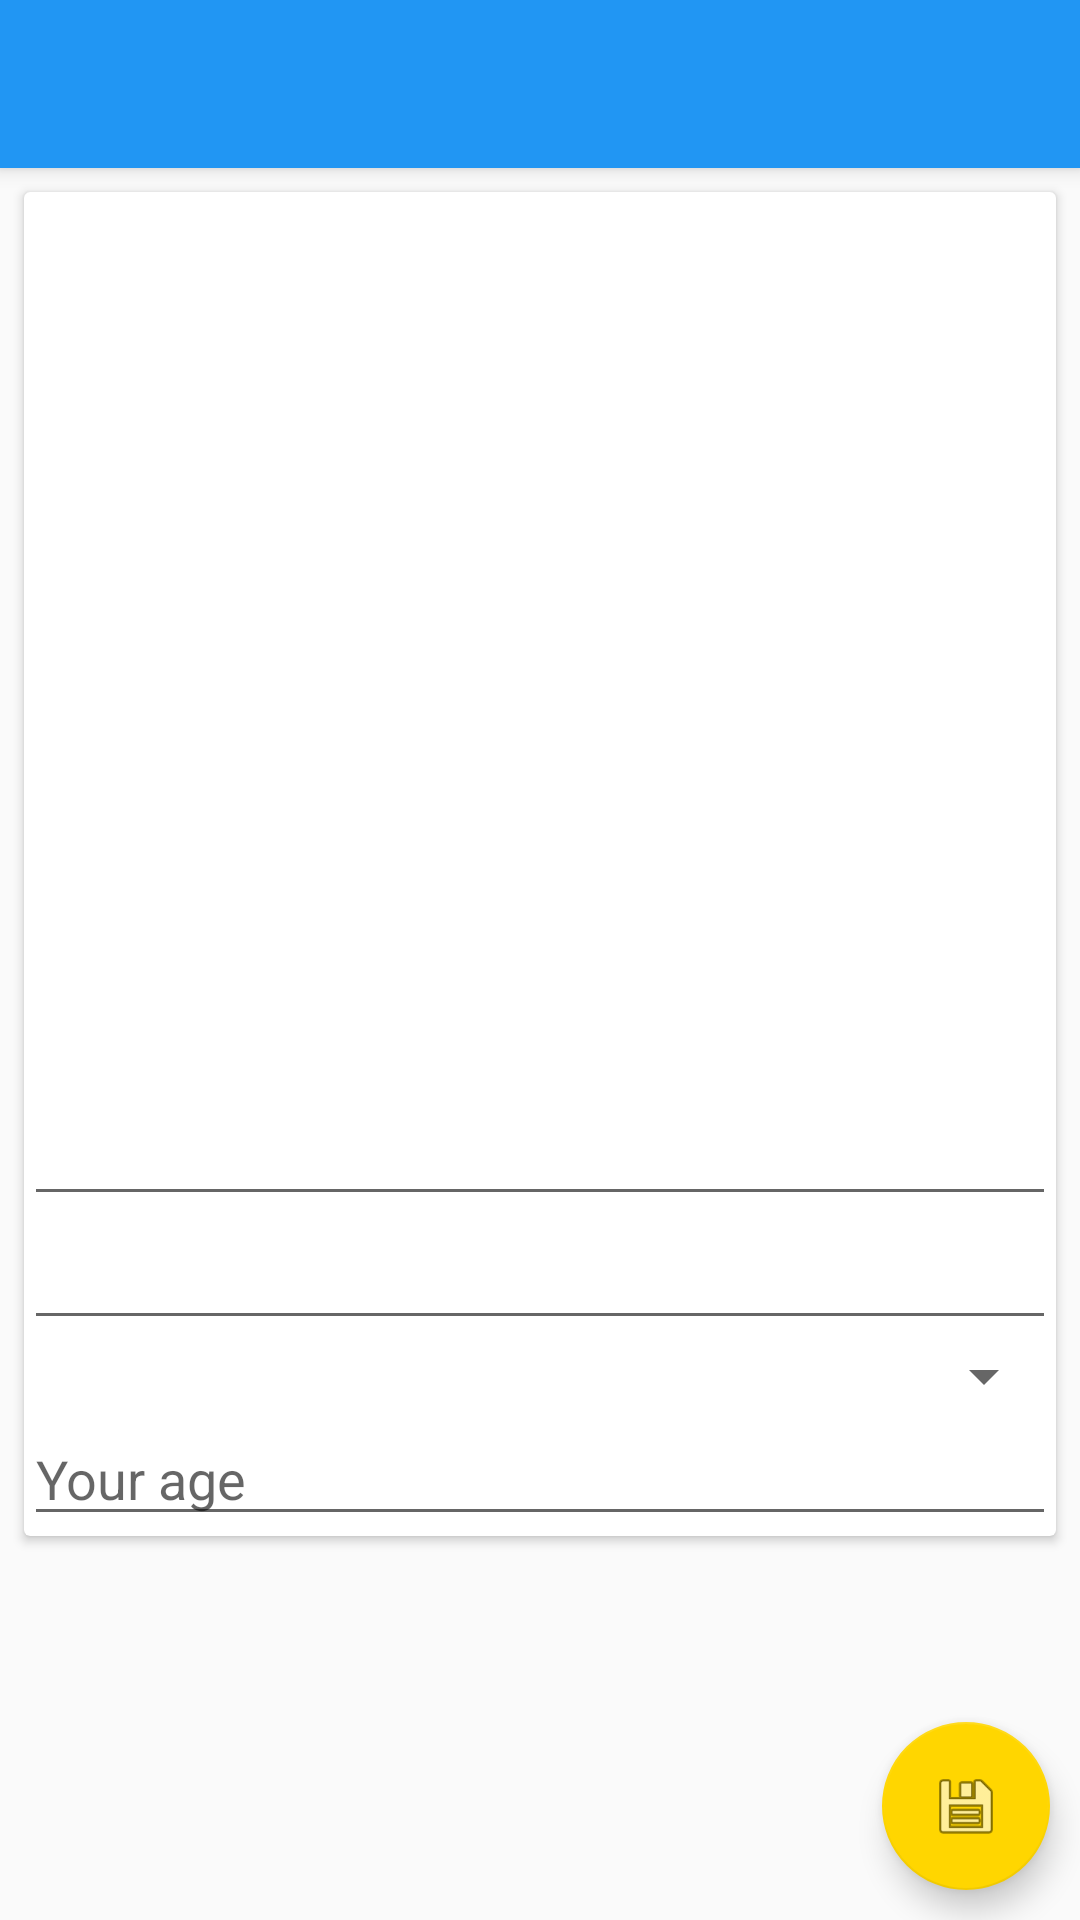

Icons on this 1080w x 1920h Android screen, each with its box as (x1, y1, x2, y2):
save: (882, 1722, 1050, 1890)
